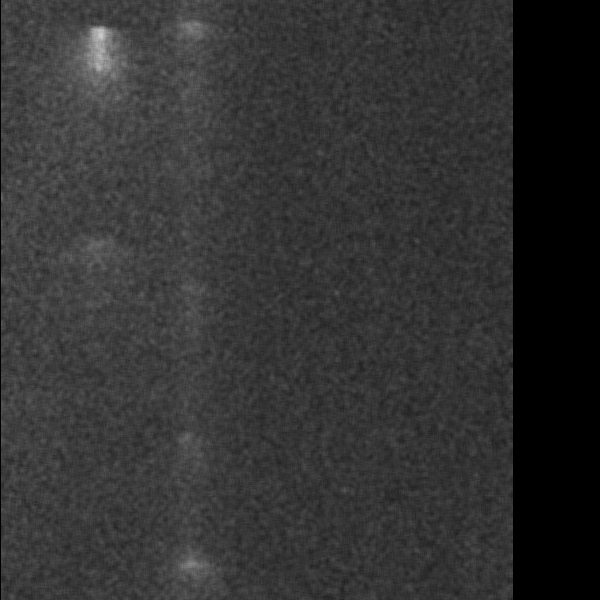spark: (55, 445, 83, 506)
